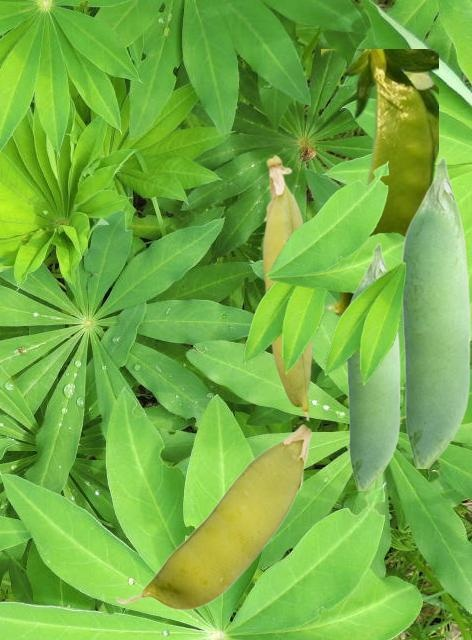pea: (115, 424, 311, 609), (321, 49, 437, 315), (401, 156, 469, 467), (262, 154, 312, 420), (346, 242, 399, 489)
